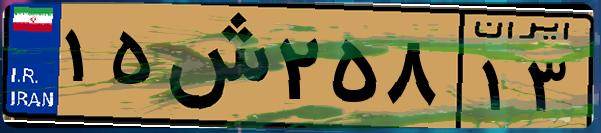1: (57, 26, 110, 100), (475, 38, 525, 113)
2: (270, 28, 330, 110)
3: (525, 38, 570, 115)
5: (330, 28, 385, 110), (110, 28, 158, 98)
8: (385, 28, 445, 110)
ش: (158, 12, 270, 120)
